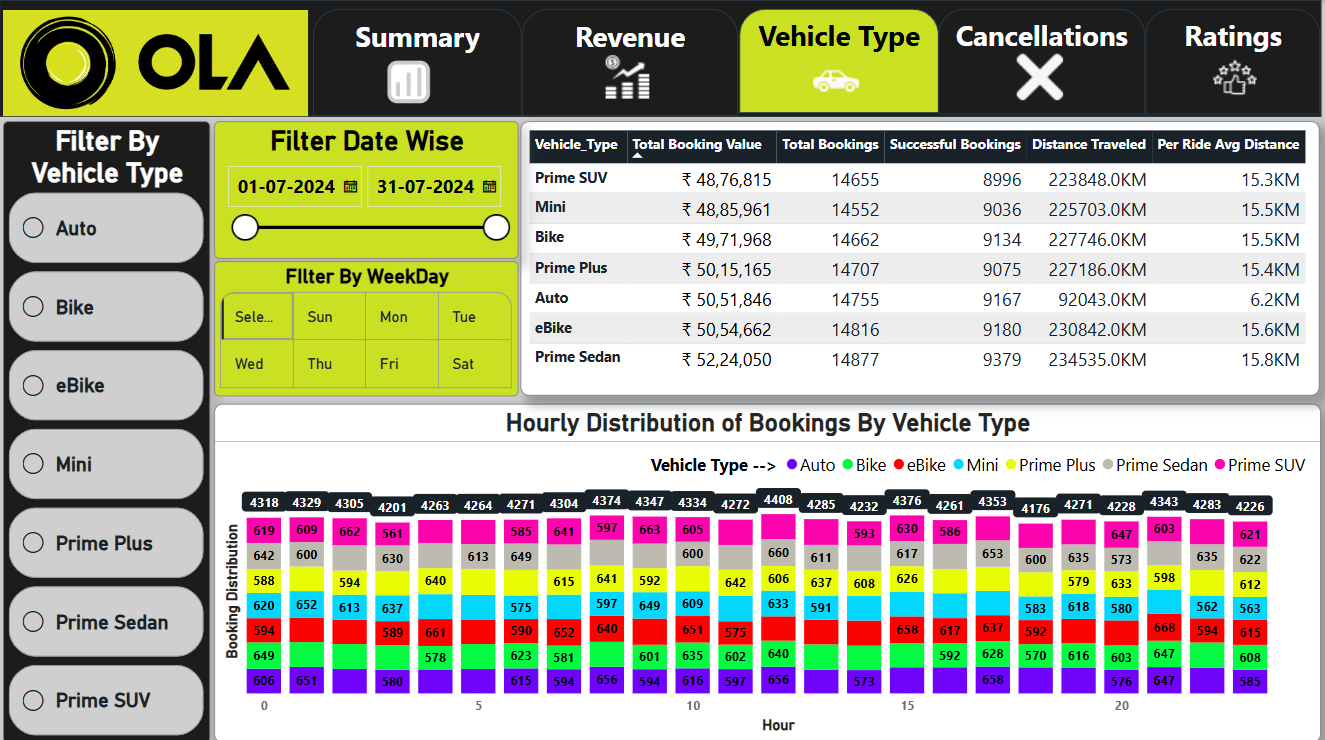

Layout of this report page (visuals, bound fields, positions):
{"tool":"powerbi","page":{"name":"Vehicle Type","canvas":[1280,720],"ordinal":2},"visuals":[{"type":"shape","box":[1.3,0,1276.2,112.9],"z":0},{"type":"group","id":"g1","title":"Group 3","box":[5.1,9.1,294.3,102.8],"z":1000},{"type":"group","id":"g2","title":"Group 1","box":[304.1,8.9,201.7,103.8],"z":2000},{"type":"shape","box":[304.1,8.9,201.7,103.8],"z":2000,"group":"g2"},{"type":"shape","box":[5.1,9.1,294.3,102.8],"z":2000,"group":"g1"},{"type":"group","id":"g3","title":"Group 2","box":[505.8,8.9,209.1,103.8],"z":3000},{"type":"shape","box":[505.8,8.9,209.1,103.8],"z":3000,"group":"g3"},{"type":"image","box":[5.1,9.1,294.3,102.8],"z":3000,"group":"g1"},{"type":"group","id":"g4","title":"Group 4","box":[714.9,8.9,192.8,101],"z":4000},{"type":"shape","box":[714.9,8.9,192.8,100.9],"z":4000,"group":"g4"},{"type":"group","id":"g5","title":"Group 5","box":[907.7,8.9,200.2,102.3],"z":5000},{"type":"shape","box":[907.7,8.9,200.2,102.3],"z":5000,"group":"g5"},{"type":"group","id":"g6","title":"Group 6","box":[1107.9,8.9,169.1,102.3],"z":6000},{"type":"shape","box":[1107.9,8.9,169.1,102.3],"z":6000,"group":"g6"},{"type":"actionButton","box":[298.1,7.4,209.1,106.8],"z":7000},{"type":"image","box":[580.3,47.6,54.9,54.9],"z":7001,"group":"g3"},{"type":"image","box":[781.8,55,54.9,54.9],"z":7002,"group":"g4"},{"type":"image","box":[979.3,47.6,54.9,54.9],"z":7003,"group":"g5"},{"type":"image","box":[1167.3,47.6,54.9,54.9],"z":7004,"group":"g6"},{"type":"actionButton","box":[507.3,4.4,209.1,106.8],"z":8000},{"type":"image","box":[369.3,52.1,54.9,54.9],"z":8500,"group":"g2"},{"type":"actionButton","box":[714.9,5.9,192.8,106.8],"z":9000},{"type":"actionButton","box":[907.7,5.9,200.2,106.8],"z":10000},{"type":"actionButton","box":[1107.9,7.4,172.1,103.8],"z":11000},{"type":"advancedSlicerVisual","title":"Filter By Vehicle Type","fields":{"Values":["OLA Dataset.Vehicle_Type"]},"box":[4.4,117,200,600],"z":12000},{"type":"lineStackedColumnComboChart","title":"Hourly Distribution of Bookings By Vehicle Type","fields":{"Category":["OLA Dataset.Hour"],"Y":["CountNonNull(OLA Dataset.Booking_ID)"],"Series":["OLA Dataset.Vehicle_Type"]},"box":[208.3,389.2,1067.6,326.9],"z":13000},{"type":"pivotTable","fields":{"Rows":["OLA Dataset.Vehicle_Type"],"Values":["OLA Dataset.Total Booking Value","CountNonNull(OLA Dataset.Booking_ID)","OLA Dataset.Successful Bookings","OLA Dataset.Total Distance Traveled","OLA Dataset.Avg Distance Traveled Per Ride"]},"box":[504.9,117.2,771.1,264.7],"z":14000},{"type":"slicer","title":"Filter Date Wise","fields":{"Values":["OLA Dataset.Date"]},"box":[208.3,117.2,293.7,133.1],"z":18000},{"type":"advancedSlicerVisual","title":"FIlter By WeekDay","fields":{"Values":["OLA Dataset.Day Name"]},"box":[208.3,251.7,293.7,130.2],"z":19000}]}

Visuals, with their boxes in screenshot pixels (x1, y1, x2, y2), scaled from the page's 1280x720 canvas onto the 1325x740 screenshot:
shape: detection(1, 0, 1322, 116)
"Group 3" group: detection(5, 9, 310, 115)
"Group 1" group: detection(315, 9, 524, 116)
shape: detection(315, 9, 524, 116)
shape: detection(5, 9, 310, 115)
"Group 2" group: detection(524, 9, 740, 116)
shape: detection(524, 9, 740, 116)
image: detection(5, 9, 310, 115)
"Group 4" group: detection(740, 9, 940, 113)
shape: detection(740, 9, 940, 113)
"Group 5" group: detection(940, 9, 1147, 114)
shape: detection(940, 9, 1147, 114)
"Group 6" group: detection(1147, 9, 1322, 114)
shape: detection(1147, 9, 1322, 114)
actionButton: detection(309, 8, 525, 117)
image: detection(601, 49, 658, 105)
image: detection(809, 57, 866, 113)
image: detection(1014, 49, 1071, 105)
image: detection(1208, 49, 1265, 105)
actionButton: detection(525, 5, 742, 114)
image: detection(382, 54, 439, 110)
actionButton: detection(740, 6, 940, 116)
actionButton: detection(940, 6, 1147, 116)
actionButton: detection(1147, 8, 1324, 114)
"Filter By Vehicle Type" advancedSlicerVisual: detection(5, 120, 212, 737)
"Hourly Distribution of Bookings By Vehicle Type" lineStackedColumnComboChart: detection(216, 400, 1321, 736)
pivotTable - OLA Dataset.Vehicle_Type x OLA Dataset.Total Booking Value: detection(523, 120, 1321, 393)
"Filter Date Wise" slicer: detection(216, 120, 520, 257)
"FIlter By WeekDay" advancedSlicerVisual: detection(216, 259, 520, 393)
